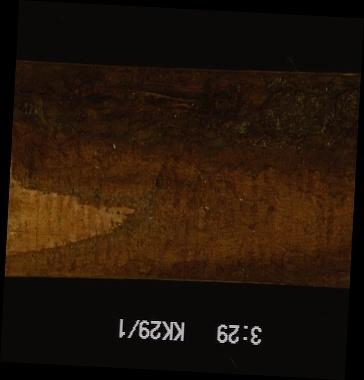wave: (9, 66, 354, 279)
